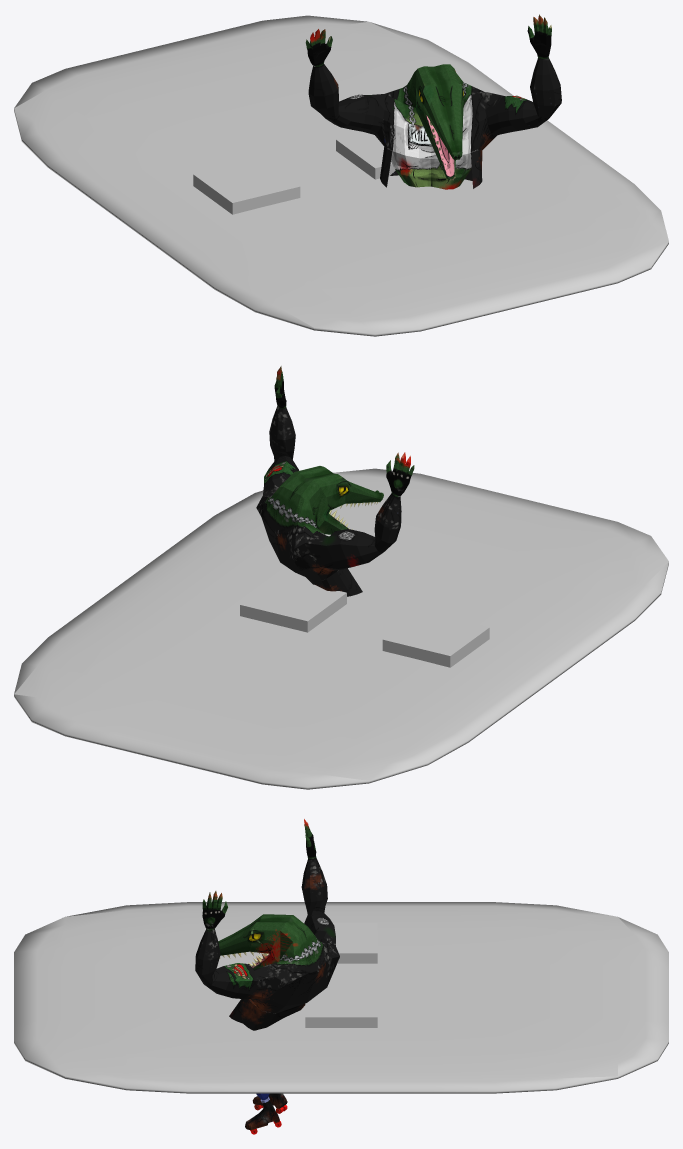
The model's file is cocodrilaBonesSelect_000045.obj.
The picture shows the model from 3 angles, top to bottom: view 1: azimuth 30°, elevation 25°; view 2: azimuth 150°, elevation 25°; view 3: azimuth 270°, elevation 25°; orthographic projection. The views are drawn at different scales.
Parts seen in each view (by area): view 1: Mball, Crocodile.002_Cylinder.002, Cube, Cube.001; view 2: Mball, Crocodile.002_Cylinder.002, Cube, Cube.001; view 3: Mball, Crocodile.002_Cylinder.002, Cube.001, Cube.
Boxes of the visible parts, x1,y1,x2,y2 form: Mball: (14, 15, 668, 336); Crocodile.002_Cylinder.002: (305, 14, 561, 189); Cube: (193, 158, 300, 214); Cube.001: (336, 132, 395, 179); Mball: (14, 468, 668, 789); Crocodile.002_Cylinder.002: (256, 366, 414, 596); Cube: (382, 611, 489, 667); Cube.001: (240, 576, 346, 632); Mball: (14, 902, 668, 1093); Crocodile.002_Cylinder.002: (195, 819, 339, 1134); Cube.001: (305, 987, 377, 1027); Cube: (333, 923, 377, 963).
Bounding box in the file's own units: 12.42 × 8.32 × 18.18.
